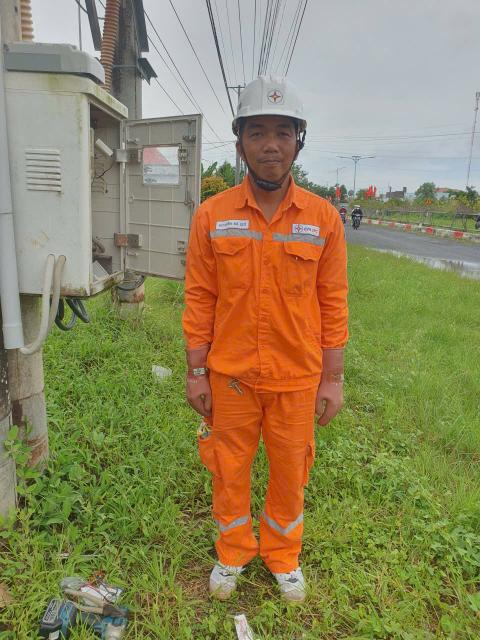gloves: (305, 334, 348, 428), (178, 338, 225, 422)
helmet: (210, 66, 336, 136)
shoes: (264, 550, 322, 607), (202, 550, 248, 608)
